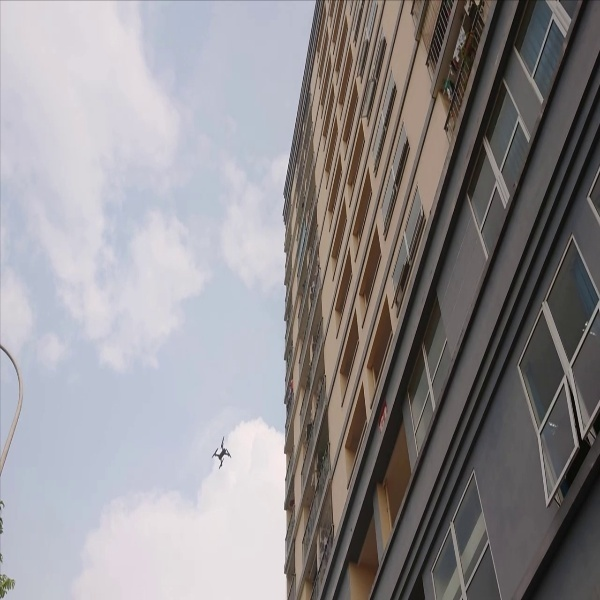drone: (205, 434, 237, 471)
